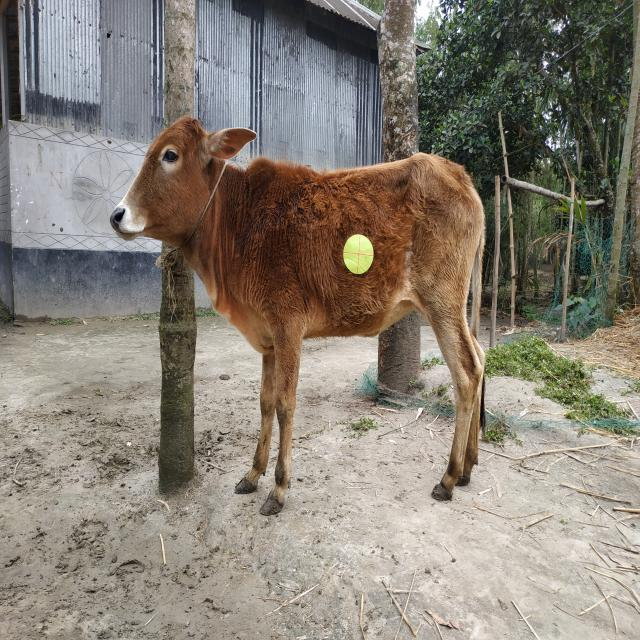badan_sapi: (254, 166, 485, 336)
sapi: (108, 112, 510, 525)
